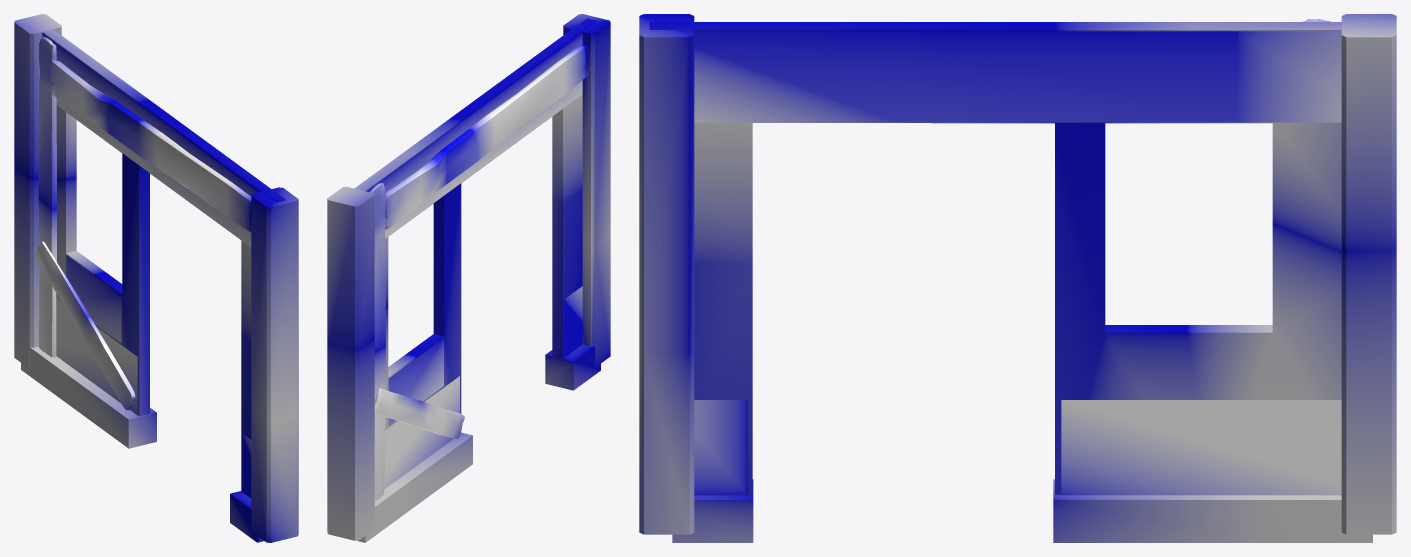
File: SM_ShackFront4m_01.fbx
3 views of the same model, side by side, from view 1: azimuth 30°, elevation 25°; view 2: azimuth 150°, elevation 25°; view 3: azimuth 270°, elevation 25° (orthographic). The views are drawn at different scales.
Parts seen in each view (by area): view 1: SM_ShackFront4m_01_LOD0; view 2: SM_ShackFront4m_01_LOD0; view 3: SM_ShackFront4m_01_LOD0.
Boxes of the visible parts, box(x1,y1,x2,y2) form: SM_ShackFront4m_01_LOD0: box(14, 14, 298, 542); SM_ShackFront4m_01_LOD0: box(327, 14, 610, 542); SM_ShackFront4m_01_LOD0: box(639, 14, 1396, 542).
Bounding box in the file's own units: 30 × 414 × 307.
